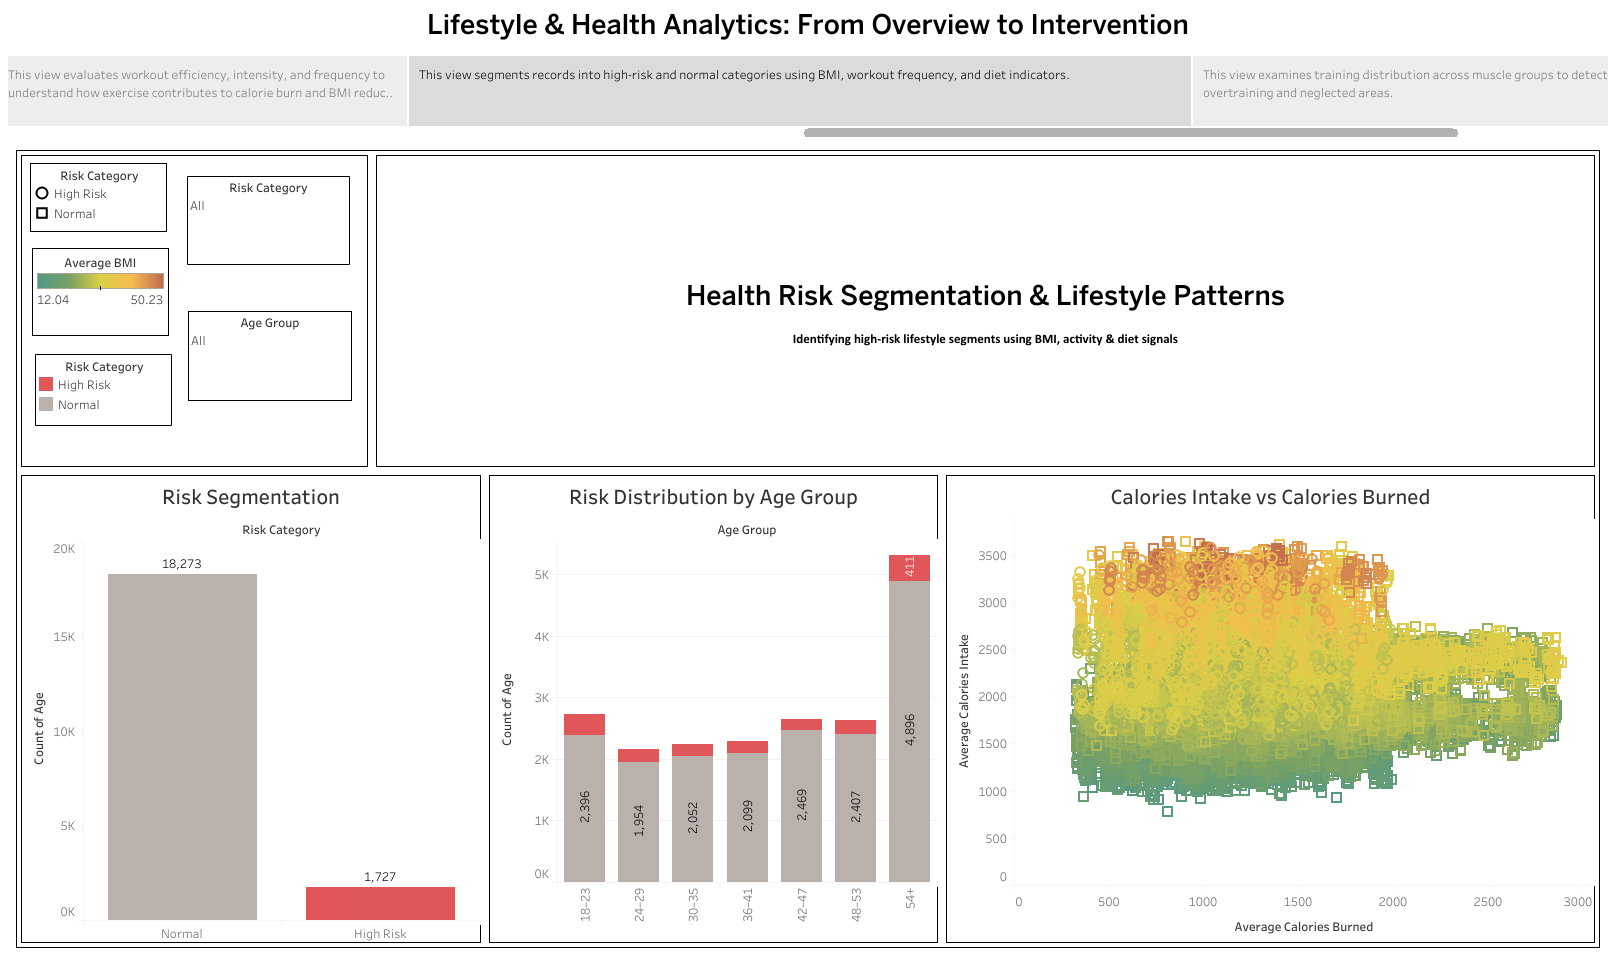

The page's visual inventory and layout, read from the dashboard file:
{"tool":"tableau","page":{"name":"Health Risk Segmentation & Lifestyle Patterns","canvas":[1000,1000],"units":"permille","ordinal":1},"visuals":[{"type":"text","box":[5.5,11.1,222.3,392.9]},{"type":"text","box":[227.8,11.1,766.7,392.9]},{"type":"legend","title":"Calories Intake vs Calories Burned","param":"[federated.1k2i0ly026o70u16u3tmm0684ppk].[none:Calculation_1022035669188321283:n","box":[14,25.9,85.4,85]},{"type":"filter","title":"Risk Distribution by Age Group","param":"[federated.1k2i0ly026o70u16u3tmm0684ppk].[none:Calculation_1022035669188321283:n","box":[111.6,41.9,102.4,109.6]},{"type":"legend","title":"Calories Intake vs Calories Burned","param":"[federated.1k2i0ly026o70u16u3tmm0684ppk].[usr:Calculation_1219068151616319488:qk","box":[15.2,130.5,85.4,108.4]},{"type":"filter","title":"Risk Distribution by Age Group","param":"[federated.1k2i0ly026o70u16u3tmm0684ppk].[none:Calculation_1219068151625768965:n","box":[112.8,208.1,102.4,109.6]},{"type":"legend","title":"Risk Distribution by Age Group","param":"[federated.1k2i0ly026o70u16u3tmm0684ppk].[none:Calculation_1022035669188321283:n","box":[17.1,259.9,85.4,88.7]},{"type":"worksheet","title":"Risk Segmentation","mark":"Automatic","rows":["Age"],"cols":["Calculation_1022035669188321283"],"box":[5.5,403.9,292.7,585]},{"type":"worksheet","title":"Risk Distribution by Age Group","mark":"Automatic","rows":["Age"],"cols":["Calculation_1219068151625768965"],"box":[298.2,403.9,285.4,585]},{"type":"worksheet","title":"Calories Intake vs Calories Burned","mark":"Automatic","rows":["Calculation_1219068151616454657"],"cols":["Calculation_1219068151616581634"],"box":[583.5,403.9,411,585]}]}

Visuals, with their boxes on the dashboard's canvas, which has no fixed pixel size, in thousandths of its width and height (x1, y1, x2, y2). These are canvas units, not pixel positions in the 1615x963 screenshot, which may show the page scaled, cropped or inside an application window:
text: box=[6, 11, 228, 404]
text: box=[228, 11, 994, 404]
"Calories Intake vs Calories Burned" legend: box=[14, 26, 99, 111]
"Risk Distribution by Age Group" filter: box=[112, 42, 214, 152]
"Calories Intake vs Calories Burned" legend: box=[15, 130, 101, 239]
"Risk Distribution by Age Group" filter: box=[113, 208, 215, 318]
"Risk Distribution by Age Group" legend: box=[17, 260, 102, 349]
"Risk Segmentation" worksheet: box=[6, 404, 298, 989]
"Risk Distribution by Age Group" worksheet: box=[298, 404, 584, 989]
"Calories Intake vs Calories Burned" worksheet: box=[584, 404, 994, 989]
